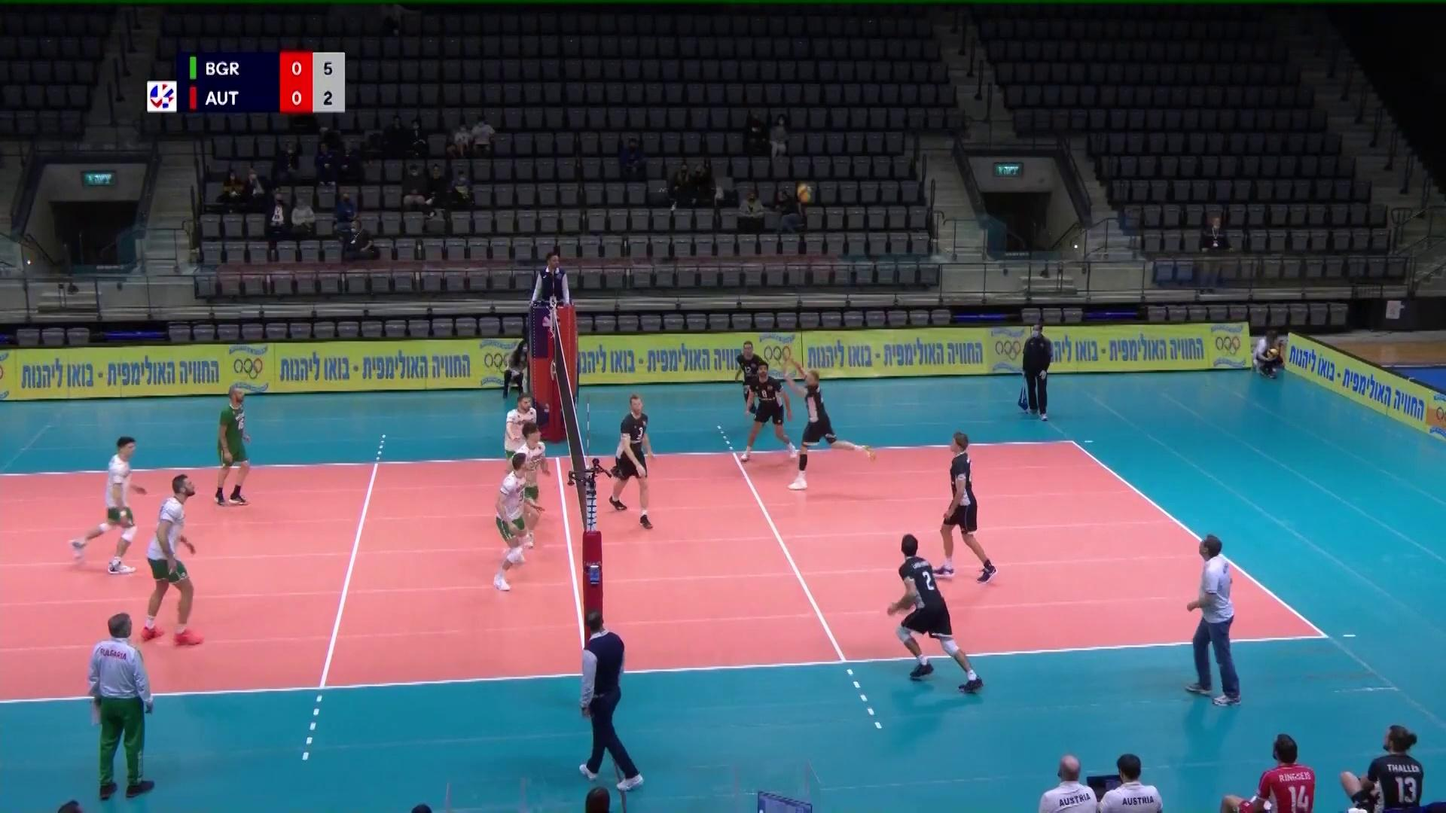ball: (797, 183, 814, 204)
